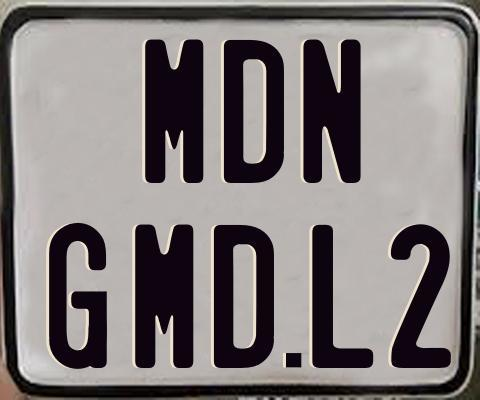2: (388, 223, 451, 370)
D: (222, 37, 286, 186), (214, 224, 276, 371)
G: (46, 221, 110, 371)
L: (311, 223, 377, 366)
M: (134, 224, 197, 373), (142, 37, 206, 181)
N: (302, 37, 362, 182)
